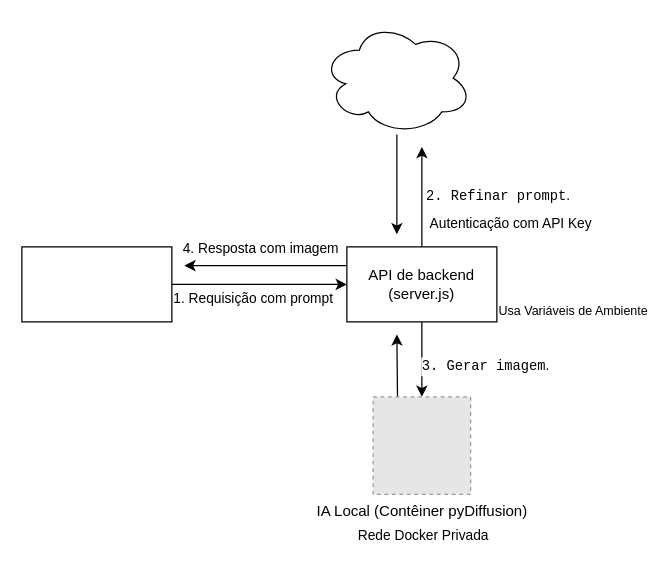
Image size: 669x565. Some labels were removed from this diagram. Grey dashed boxes stand in for pictures. Here are the shapes that lost their labels. From the top down, the centre of each, then its label:
At (396,77): "IA Remota (API Externa)".
At (96,284): "Interface Web (Navegador)".
